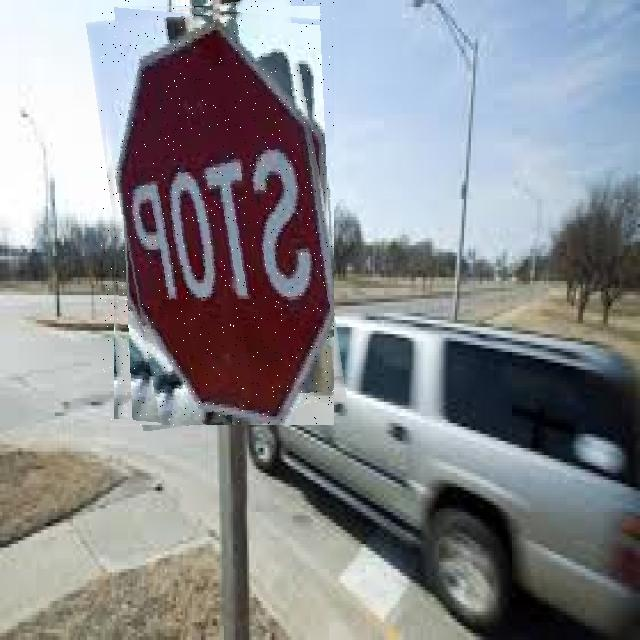stop: (100, 0, 334, 425)
